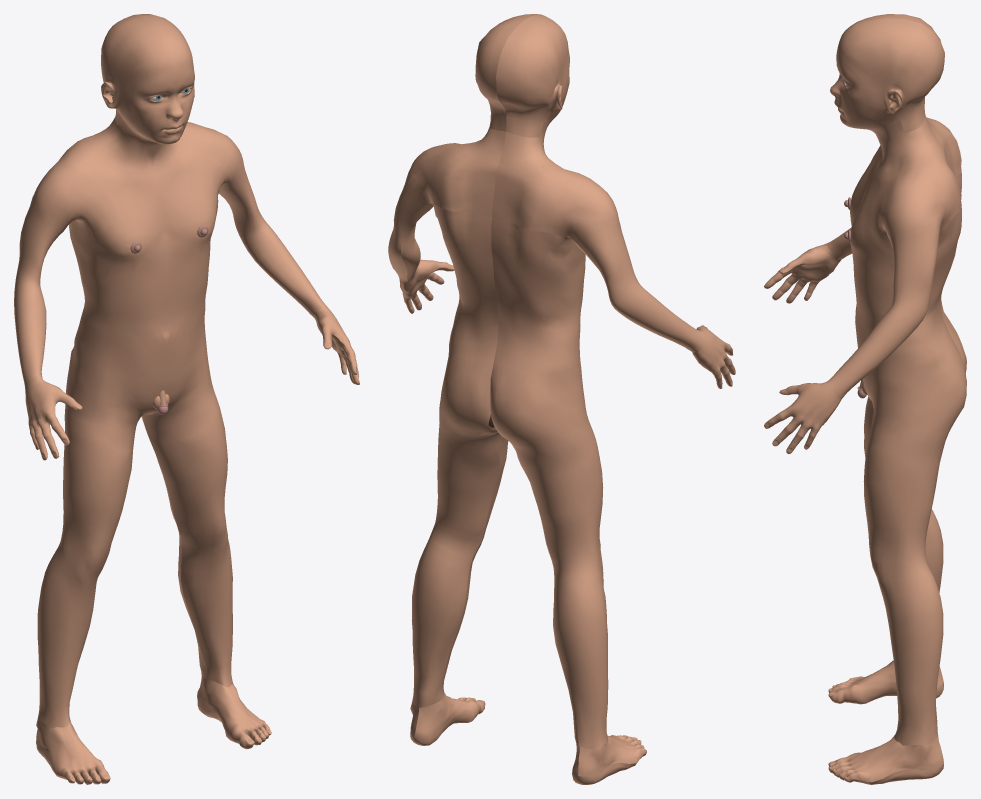
Rendered from body-kind-maennlich-real-v3.glb.
3 renders of one model, left to right at view 1: azimuth 30°, elevation 25°; view 2: azimuth 150°, elevation 25°; view 3: azimuth 270°, elevation 25°, orthographic.
Parts seen in each view (by area): view 1: real-human-body; view 2: real-human-body; view 3: real-human-body.
Boxes of the visible parts, bbox=[...] form: real-human-body: bbox=[14, 14, 359, 784]; real-human-body: bbox=[388, 14, 735, 784]; real-human-body: bbox=[764, 14, 966, 784].
Bounding box in the file's own units: 0.6497 × 1.42 × 0.3629.
Materials: 8 (1 with a texture image).
